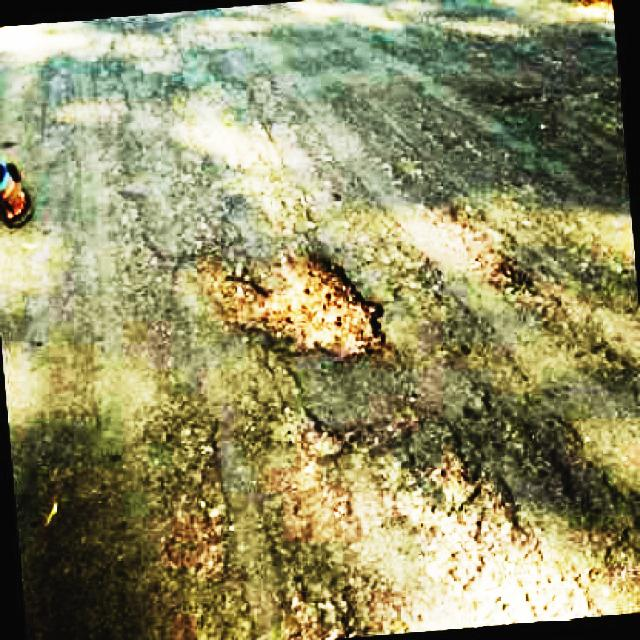pothole: (400, 455, 585, 623), (207, 249, 396, 357)
